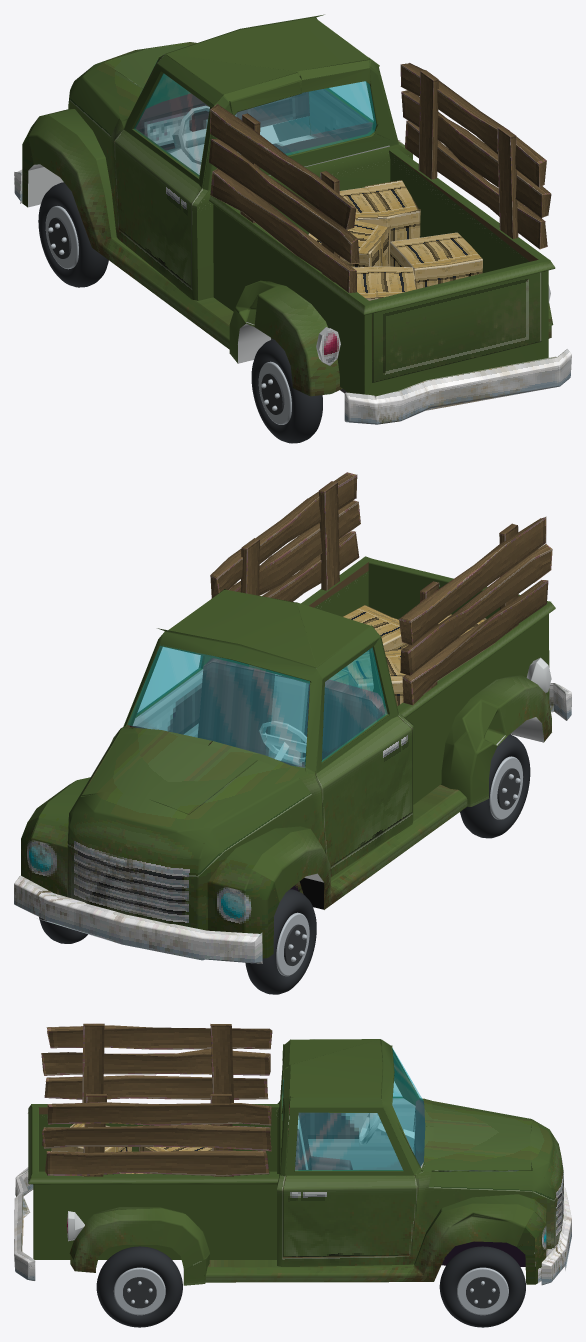
Rendered from car-cletu_v.glb.
The picture shows the model from 3 angles, top to bottom: view 1: azimuth 30°, elevation 25°; view 2: azimuth 150°, elevation 25°; view 3: azimuth 270°, elevation 25°; orthographic projection. The views are drawn at different scales.
Visible parts, largest first — view 1: cletu_vShape.003, cletu_vShape.006, tailgateShape, cletu_vShape.009, cletu_vShape.002, DoorDRotShape.013, cletu_vShape.005, cletu_vShape.001, cletu_vShape.008, HoodRotShape.003, DoorDRotShape.016, Rounded tire.013 (+10 smaller); view 2: cletu_vShape.006, cletu_vShape.005, cletu_vShape.003, HoodRotShape.003, cletu_vShape.008, DoorDRotShape.013, cletu_vShape.009, DoorDRotShape.016, DoorDRotShape.014, tailgateShape.002, cletu_vShape.002, Rounded tire.015 (+9 smaller); view 3: cletu_vShape.006, cletu_vShape.003, cletu_vShape.004, DoorPRotShape.012, HoodRotShape.003, cletu_vShape.005, cletu_vShape.009, DoorPRotShape.015, DoorDRotShape.015, Rounded tire.012, Rounded tire.014, DoorPRotShape.013 (+8 smaller).
Part boxes in pixels (bbox=[...]): cletu_vShape.003: bbox=[28, 101, 555, 396]; cletu_vShape.006: bbox=[28, 54, 551, 365]; tailgateShape: bbox=[372, 272, 541, 382]; cletu_vShape.009: bbox=[165, 17, 370, 115]; cletu_vShape.002: bbox=[308, 180, 482, 300]; DoorDRotShape.013: bbox=[114, 130, 201, 287]; cletu_vShape.005: bbox=[14, 14, 550, 305]; cletu_vShape.001: bbox=[344, 349, 571, 424]; cletu_vShape.008: bbox=[146, 74, 376, 155]; HoodRotShape.003: bbox=[68, 42, 196, 136]; DoorDRotShape.016: bbox=[134, 73, 209, 176]; Rounded tire.013: bbox=[251, 339, 322, 443]; cletu_vShape.006: bbox=[67, 472, 552, 882]; cletu_vShape.005: bbox=[14, 556, 550, 963]; cletu_vShape.003: bbox=[225, 571, 555, 909]; HoodRotShape.003: bbox=[67, 733, 311, 876]; cletu_vShape.008: bbox=[128, 646, 373, 767]; DoorDRotShape.013: bbox=[316, 716, 412, 866]; cletu_vShape.009: bbox=[168, 590, 370, 667]; DoorDRotShape.016: bbox=[322, 647, 387, 761]; DoorDRotShape.014: bbox=[315, 624, 398, 782]; tailgateShape.002: bbox=[368, 559, 519, 619]; cletu_vShape.002: bbox=[329, 605, 486, 706]; Rounded tire.015: bbox=[245, 889, 316, 994]; cletu_vShape.006: bbox=[38, 1023, 437, 1281]; cletu_vShape.003: bbox=[28, 1101, 426, 1285]; cletu_vShape.004: bbox=[206, 1171, 533, 1282]; DoorPRotShape.012: bbox=[282, 1175, 417, 1257]; HoodRotShape.003: bbox=[428, 1101, 563, 1200]; cletu_vShape.005: bbox=[31, 1039, 571, 1285]; cletu_vShape.009: bbox=[282, 1039, 382, 1103]; DoorPRotShape.015: bbox=[295, 1113, 403, 1170]; DoorDRotShape.015: bbox=[303, 1098, 415, 1169]; Rounded tire.012: bbox=[96, 1246, 182, 1327]; Rounded tire.014: bbox=[439, 1246, 525, 1327]; DoorPRotShape.013: bbox=[286, 1097, 414, 1175].
Size of the model in its own units: 2.2 by 2.34 by 5.23.
13 materials, 10 textured.
